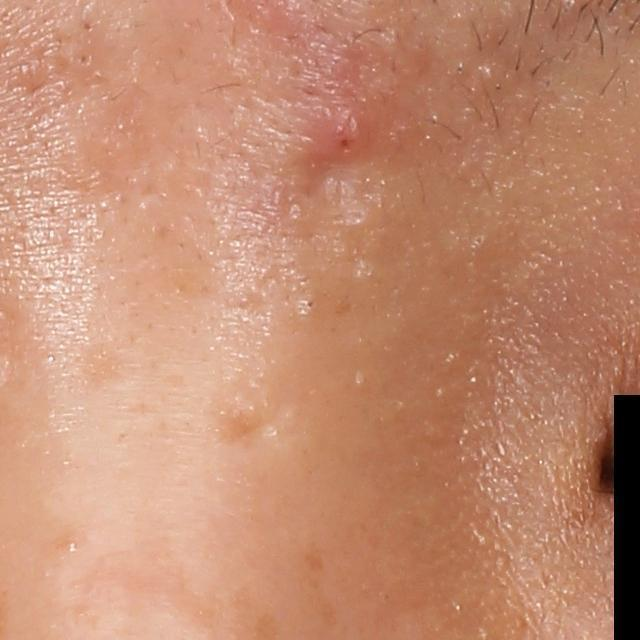comedo: (295, 297, 317, 317)
papule: (315, 109, 373, 166)
